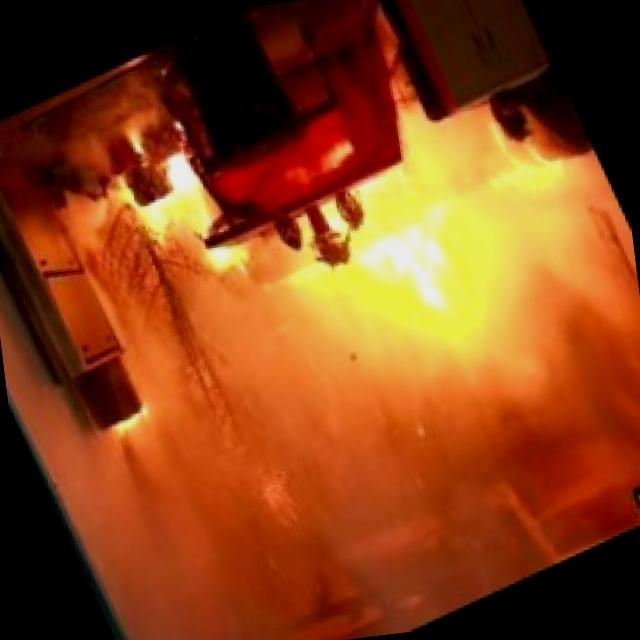fire: (25, 0, 640, 586)
